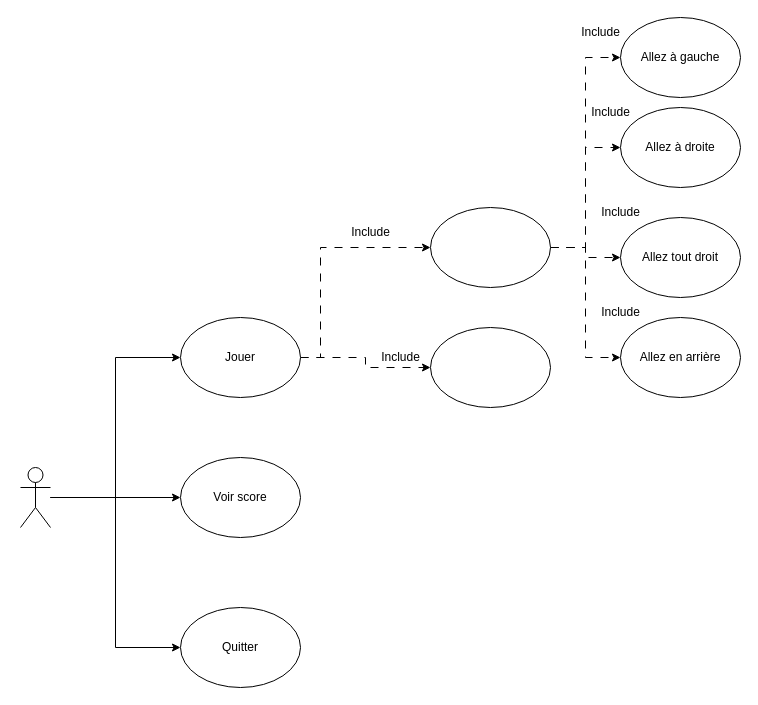
This 758x705 diagram has some shape labels left out. The centre of each missing label's shape, as x and y in pixels:
"Joueur" goes at (35,497).
"Mourir" goes at (490,367).
"Se deplacer" goes at (490,247).
